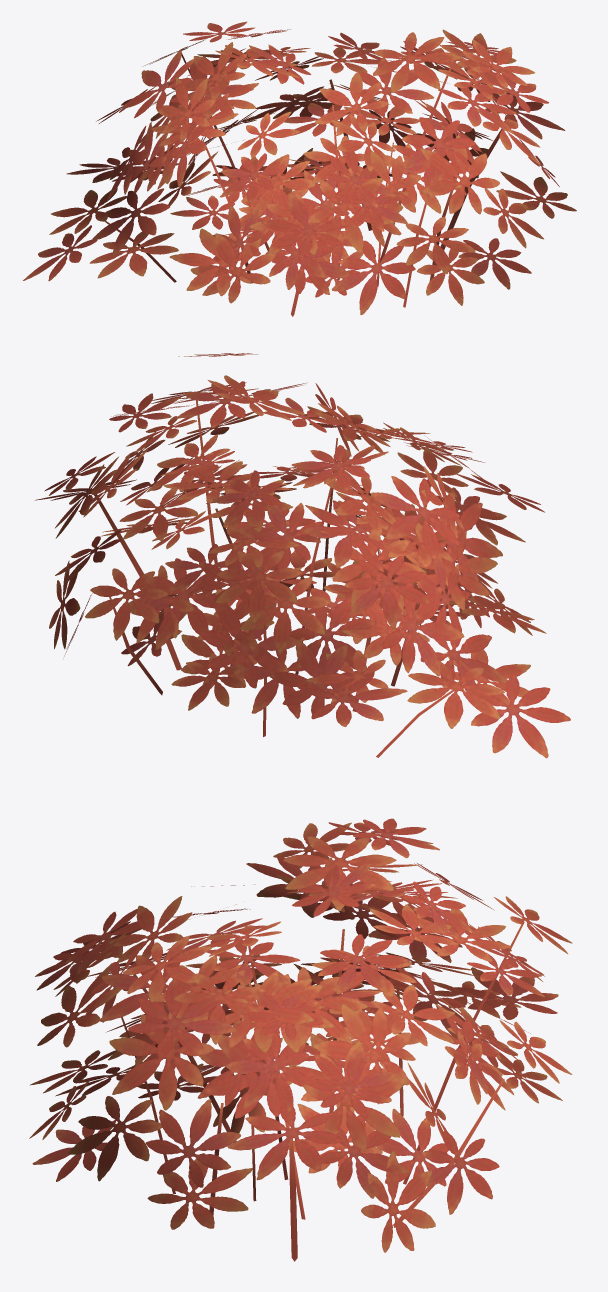
Rendered from P_BushChina03.obj.
3 renders of one model, top to bottom at view 1: azimuth 30°, elevation 25°; view 2: azimuth 150°, elevation 25°; view 3: azimuth 270°, elevation 25°, orthographic. The views are drawn at different scales.
Bounding box in the file's own units: 4.12 × 1.92 × 3.11.
